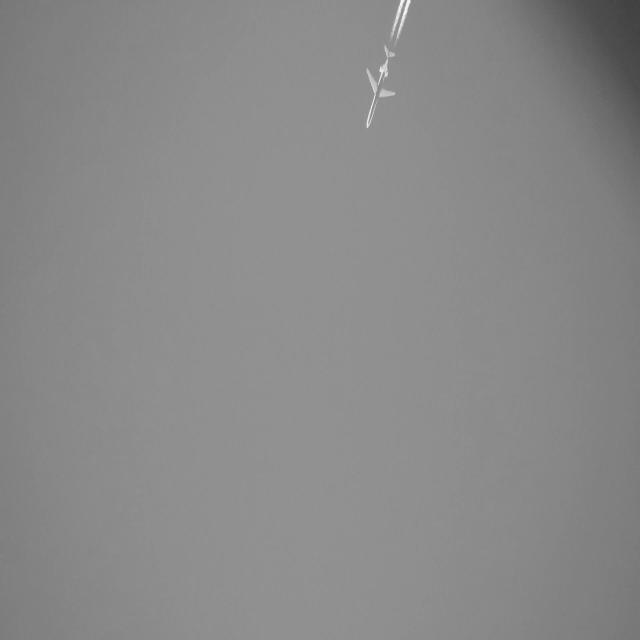aeroplane: (364, 44, 396, 140)
